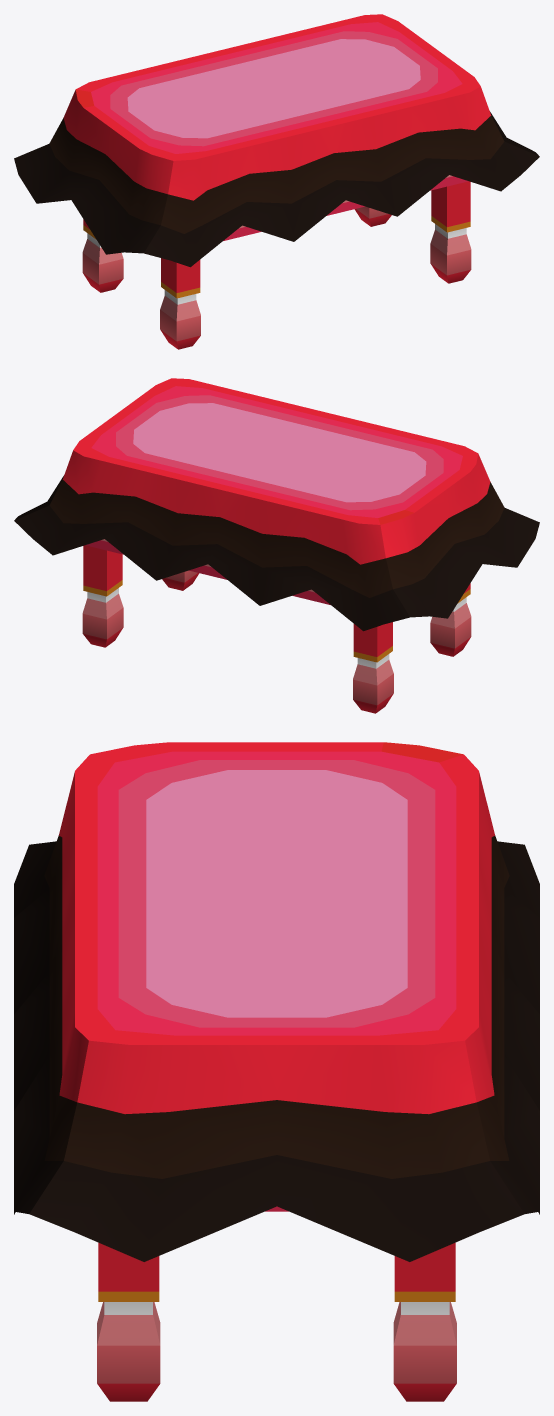
The model's file is Takja1-1.fbx.
The picture shows the model from 3 angles, top to bottom: view 1: azimuth 30°, elevation 25°; view 2: azimuth 150°, elevation 25°; view 3: azimuth 270°, elevation 25°; orthographic projection. The views are drawn at different scales.
Visible parts, largest first — view 1: Takja1-1; view 2: Takja1-1; view 3: Takja1-1.
Boxes of the visible parts, bbox=[...] form: Takja1-1: bbox=[14, 14, 539, 349]; Takja1-1: bbox=[14, 378, 539, 713]; Takja1-1: bbox=[14, 742, 539, 1401].
Bounding box in the file's own units: 1.03 × 0.4651 × 0.595.
